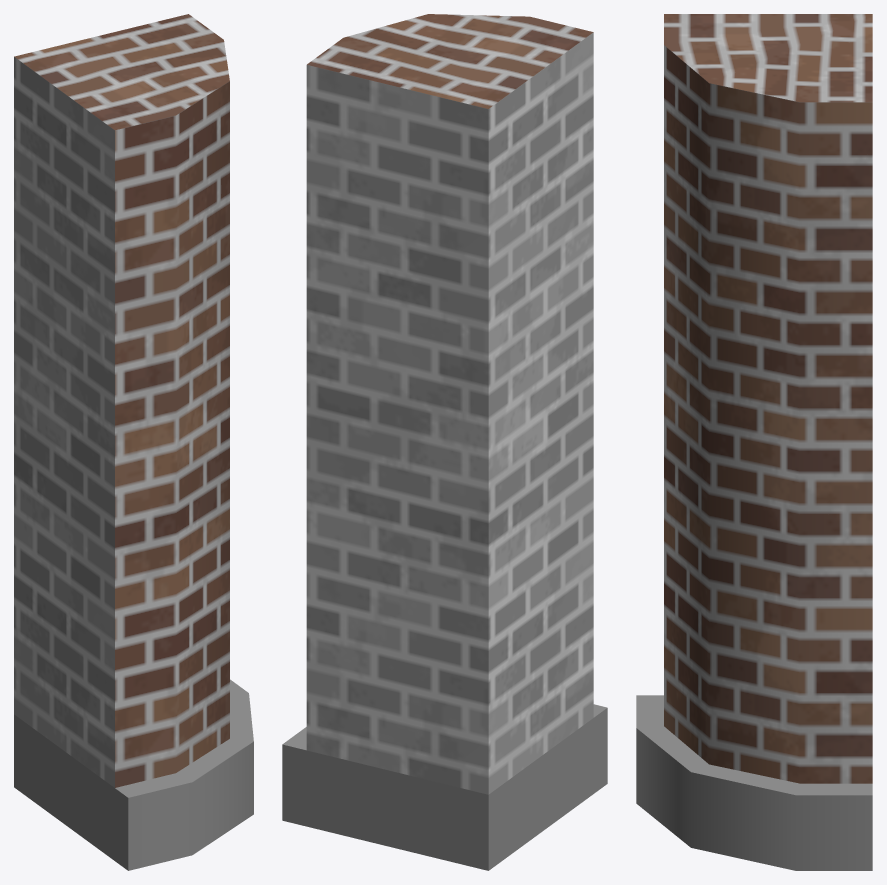
File: Corner_Wall_007.FBX
3 views of the same model, side by side, from view 1: azimuth 30°, elevation 25°; view 2: azimuth 150°, elevation 25°; view 3: azimuth 270°, elevation 25° (orthographic). The views are drawn at different scales.
Parts seen in each view (by area): view 1: Corner_Wall_007; view 2: Corner_Wall_007; view 3: Corner_Wall_007.
Part boxes in pixels (bbox=[...]): Corner_Wall_007: bbox=[14, 14, 253, 870]; Corner_Wall_007: bbox=[282, 14, 607, 870]; Corner_Wall_007: bbox=[636, 14, 872, 870].
Bounding box in the file's own units: 85 × 85 × 300.
